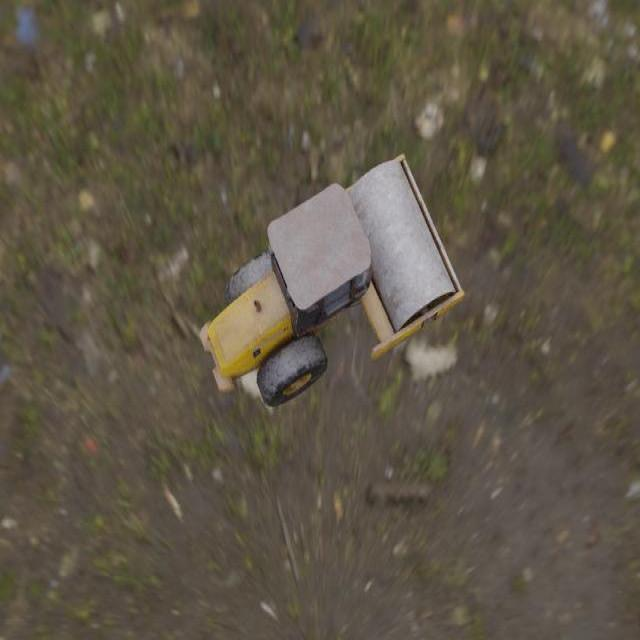Roller: (199, 153, 465, 407)
